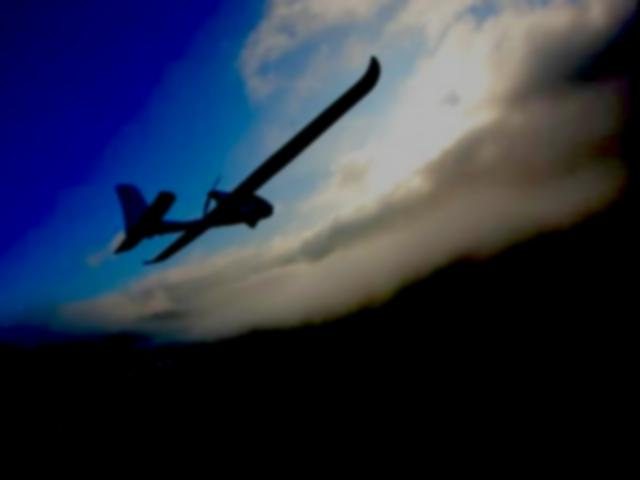uav: (106, 48, 393, 287)
